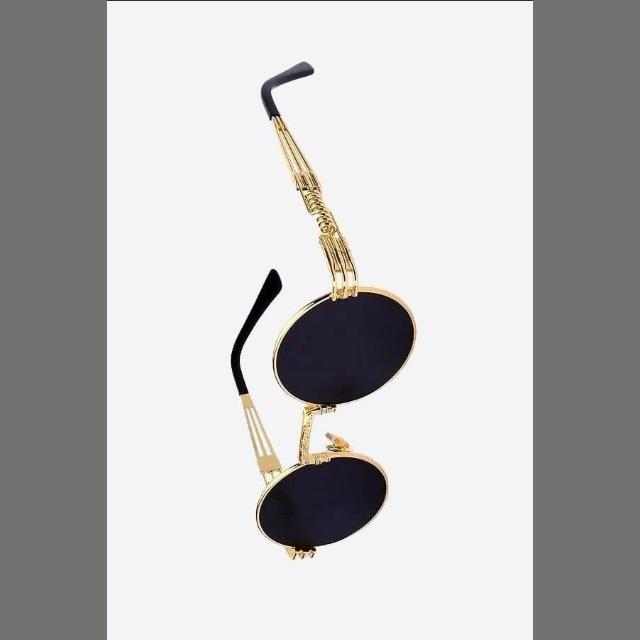Sunglasses: (176, 46, 432, 582)
